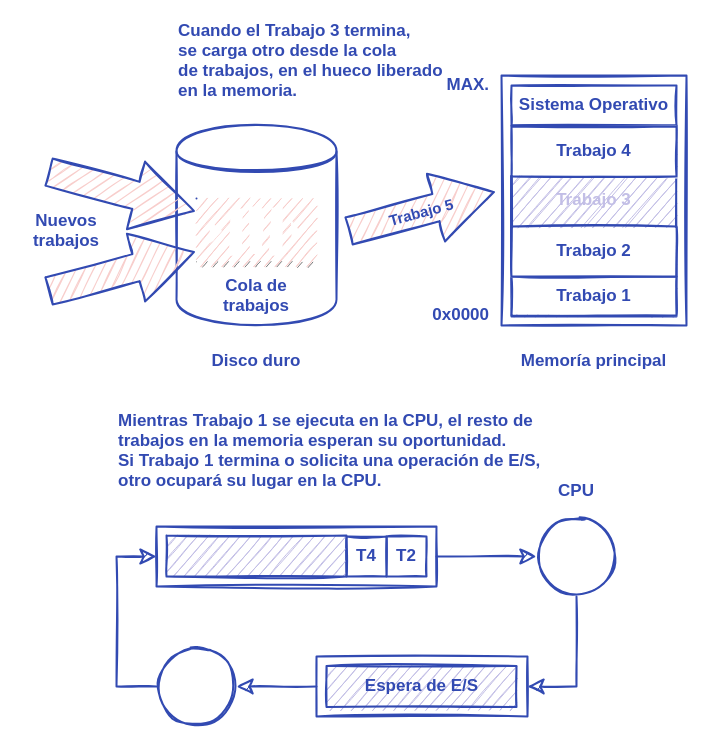
Image size: 703x743. Some labels were removed from this diagram. The shapes that lost their labels are listed below. From the top down, each one's centre as x and y in pixels, then its label:
(x=576, y=556): T1
(x=196, y=686): E/S
